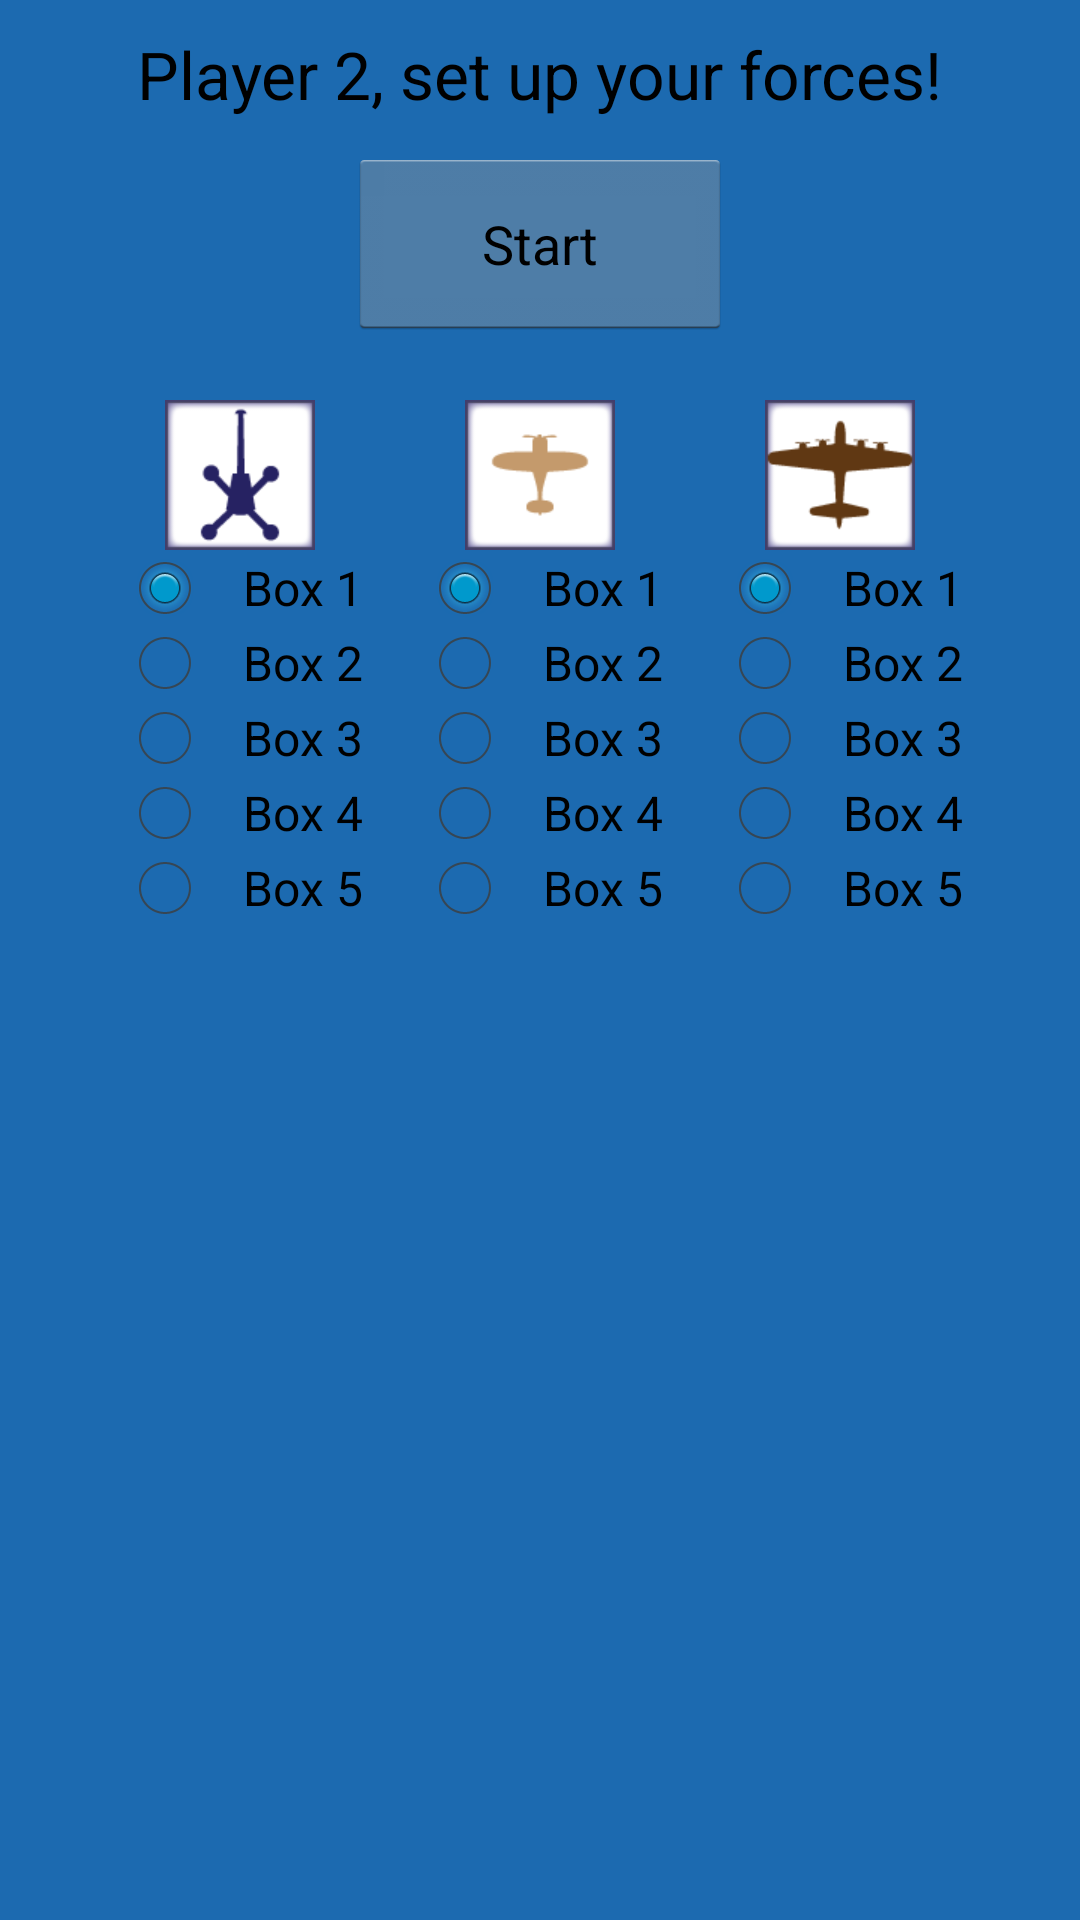

Locate icon controls on the screen. Image size 1080*1920, boxes as box=[x1, y1, x2, y2].
aa radio: box=[165, 400, 315, 550]
bomber radio: box=[765, 400, 915, 550]
fighter radio: box=[465, 400, 615, 550]
